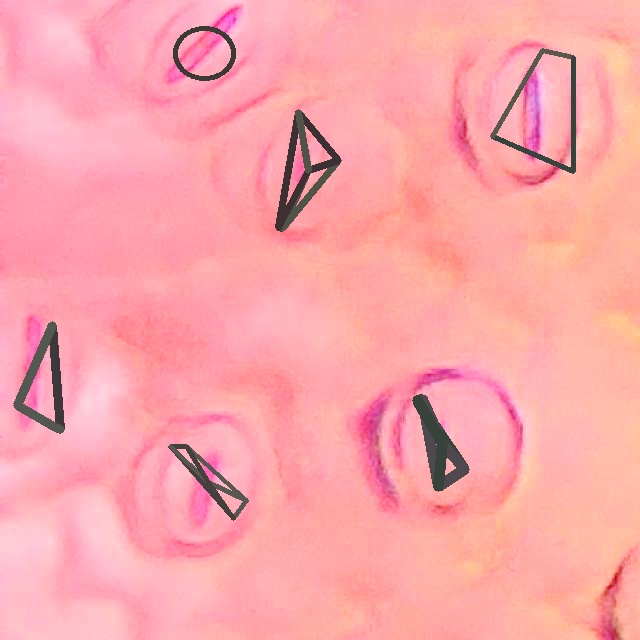open: (490, 48, 575, 173), (275, 109, 341, 231), (168, 444, 248, 520), (13, 321, 64, 431), (417, 395, 468, 491), (172, 25, 236, 81)
